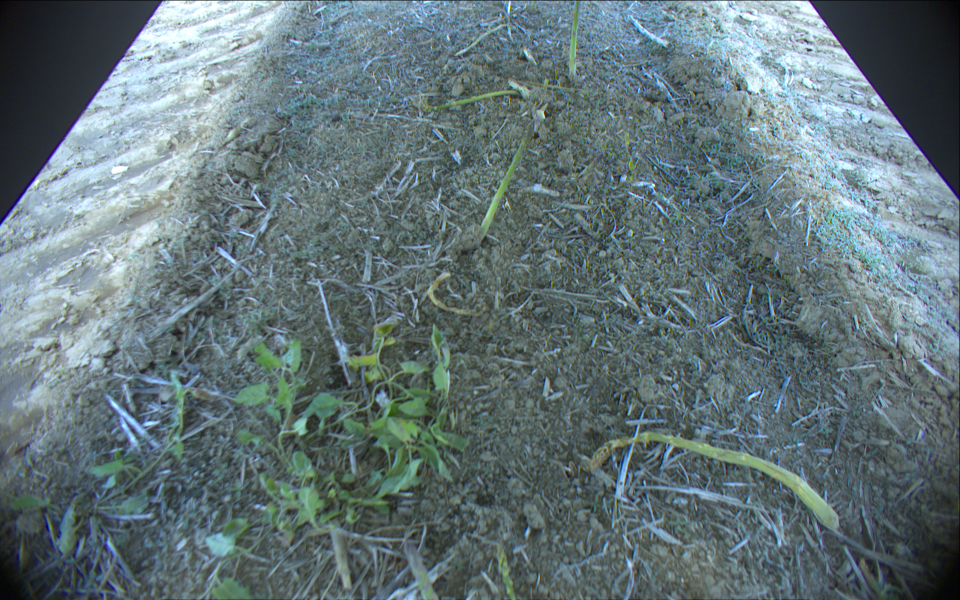aspa: (588, 430, 840, 531), (473, 118, 534, 246), (452, 5, 512, 58), (426, 271, 489, 319), (419, 89, 520, 112), (404, 539, 439, 600), (495, 536, 519, 600), (629, 15, 668, 47), (569, 1, 580, 76)
